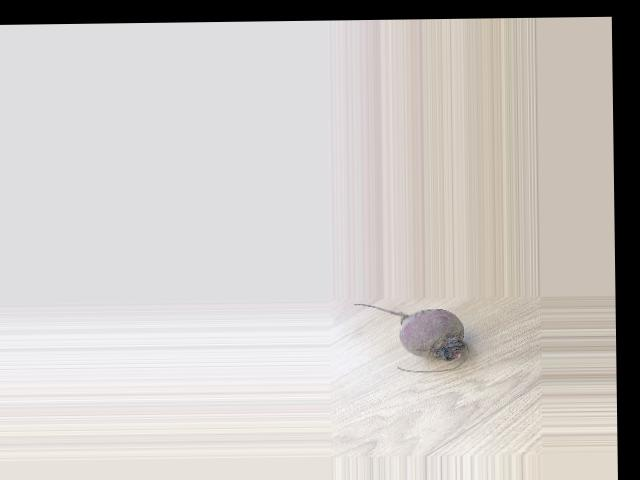beet: (353, 301, 467, 373)
